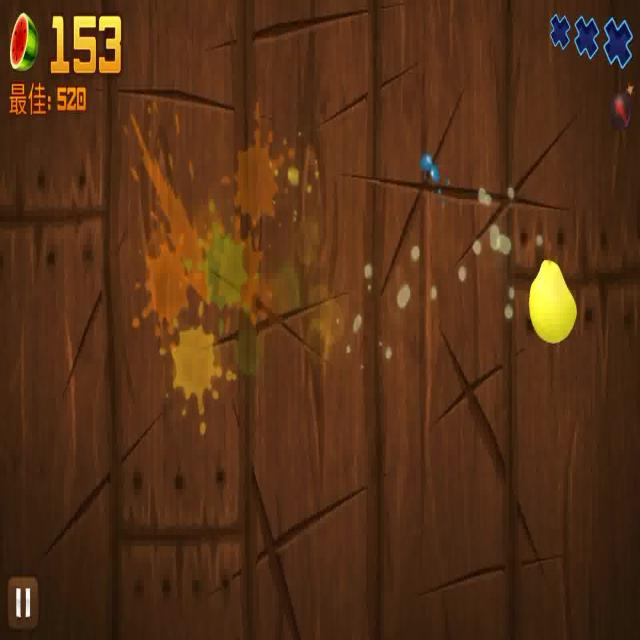fruit: (528, 257, 576, 342)
